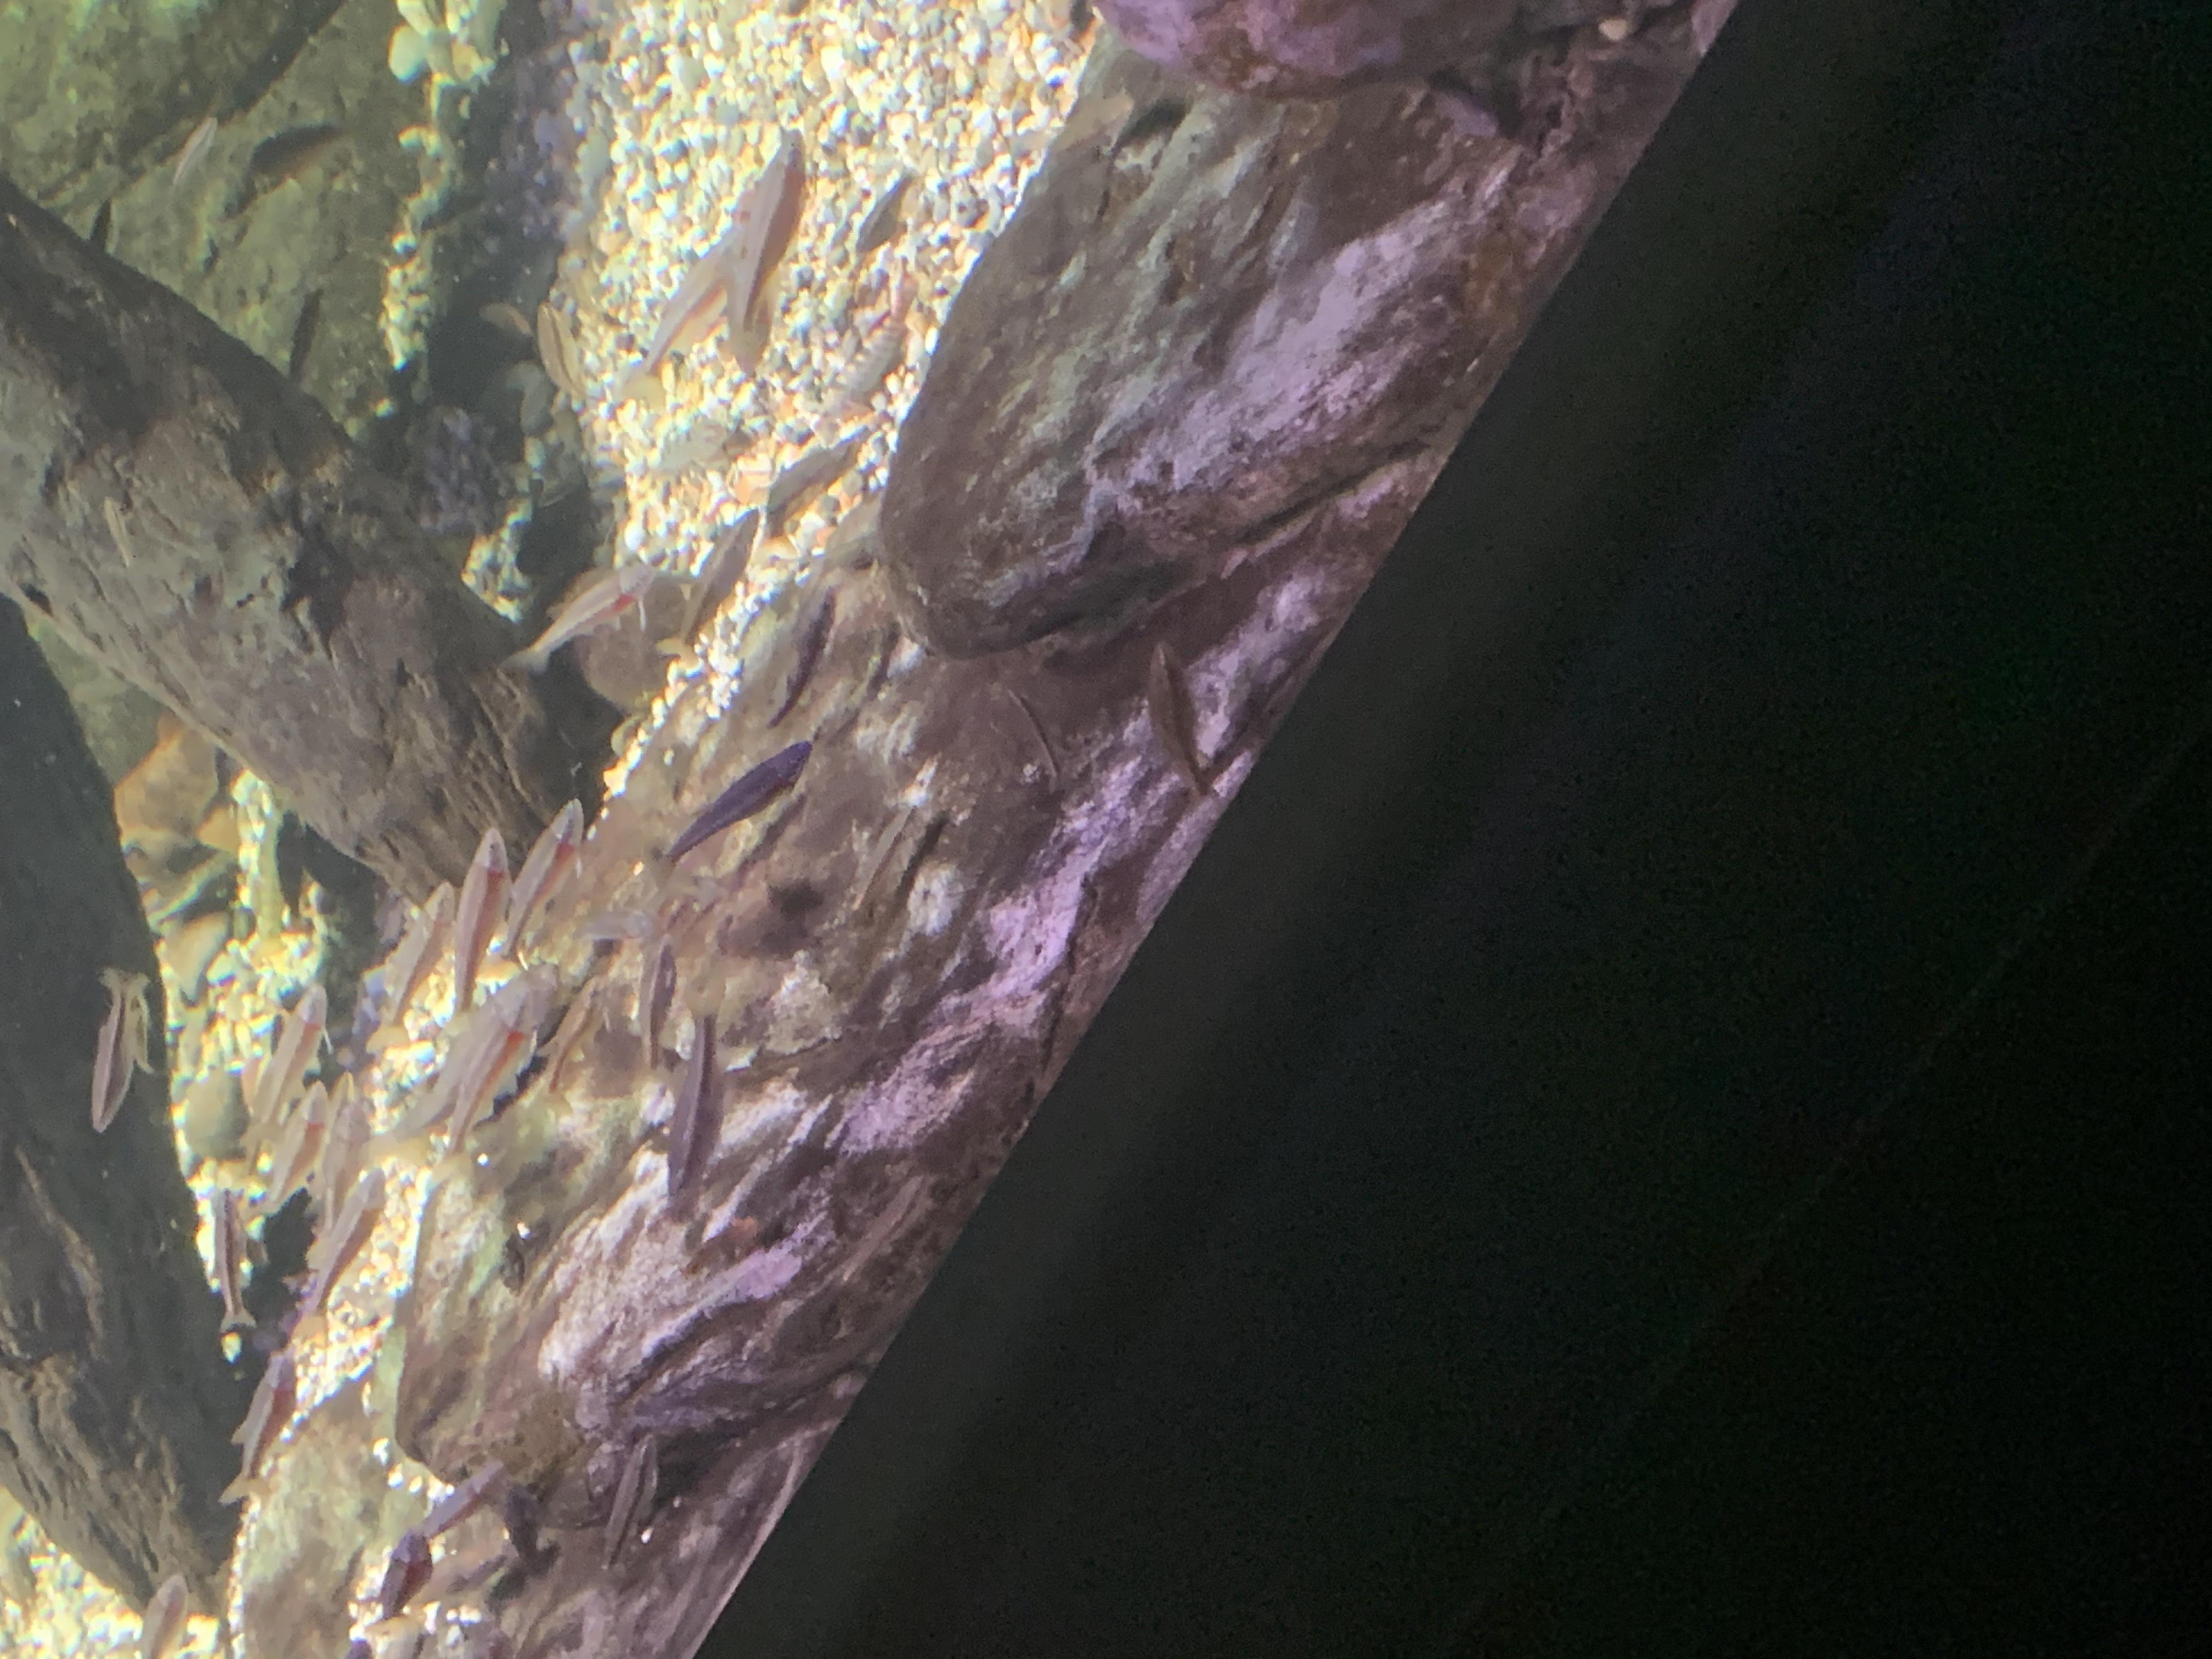fish: (397, 974, 563, 1162), (711, 125, 819, 376), (620, 199, 751, 404), (657, 734, 827, 884), (658, 1006, 747, 1215), (498, 793, 603, 960), (514, 561, 660, 667), (446, 824, 521, 1030), (369, 880, 456, 1049), (667, 505, 765, 652), (296, 1166, 392, 1310), (212, 1358, 303, 1502), (256, 979, 338, 1138), (1139, 640, 1219, 798), (768, 586, 853, 728), (87, 965, 158, 1131), (592, 1427, 672, 1567), (765, 429, 873, 532), (260, 1077, 334, 1216), (204, 1190, 265, 1328), (418, 1455, 510, 1546), (631, 932, 690, 1068), (320, 1075, 378, 1201), (371, 1523, 439, 1624), (852, 169, 921, 258), (533, 303, 583, 401), (138, 1575, 188, 1659), (169, 113, 218, 186)
